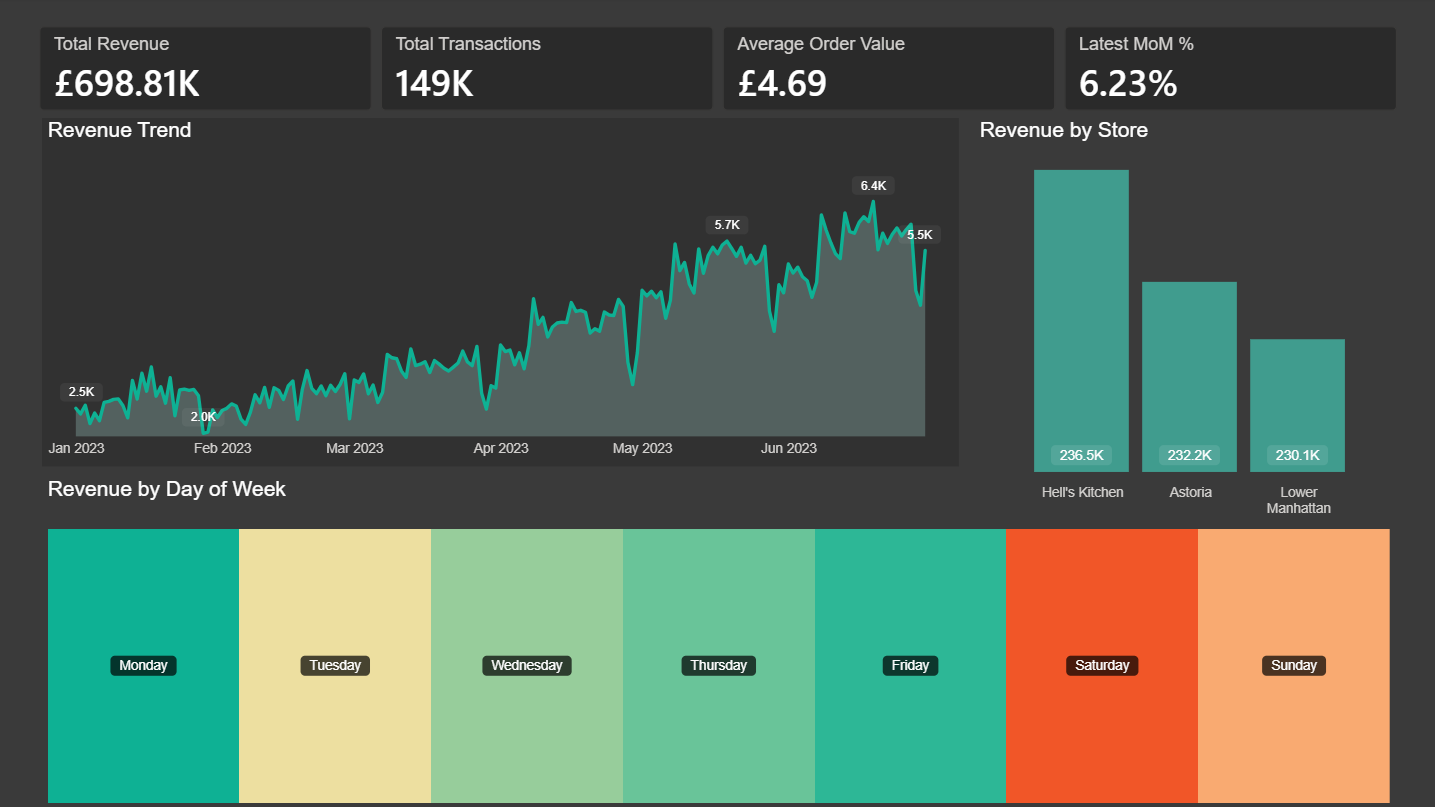

The page's visual inventory and layout, read from the dashboard file:
{"tool":"powerbi","page":{"name":"Page 1 - Overview","canvas":[1280,720],"ordinal":0},"visuals":[{"type":"cardVisual","fields":{"Data":["Fact_Transactions.Total Revenue","Fact_Transactions.Total Transactions","Fact_Transactions.Average Order Value","Fact_Transactions.Latest Month MoM %"]},"box":[24.3,7.8,1238.2,109.9],"z":0},{"type":"lineChart","title":"Revenue Trend","fields":{"Category":["Dim_Date.transaction_date"],"Y":["Sum(Fact_Transactions.Revenue)"]},"box":[43.8,106,813.1,309.3],"z":1000},{"type":"hundredPercentStackedColumnChart","title":"Revenue by Day of Week","fields":{"Category":["Dim_Date.Day Name"],"Y":["Fact_Transactions.Total Revenue"]},"box":[43.8,425,1200.2,294.7],"z":3000},{"type":"columnChart","title":"Revenue by Store","fields":{"Category":["Dim_Store.store_location"],"Y":["Dim_Store.Revenue per Store"]},"box":[869.5,106,374.5,360.9],"z":4000}]}

Visuals, with their boxes in screenshot pixels (x1, y1, x2, y2), scaled from the page's 1280x720 canvas onto the 1435x807 screenshot:
cardVisual - Fact_Transactions.Total Revenue x Fact_Transactions.Total Transactions: pyautogui.locateOnScreen(27, 9, 1415, 132)
"Revenue Trend" lineChart: pyautogui.locateOnScreen(49, 119, 961, 465)
"Revenue by Day of Week" hundredPercentStackedColumnChart: pyautogui.locateOnScreen(49, 476, 1395, 806)
"Revenue by Store" columnChart: pyautogui.locateOnScreen(975, 119, 1395, 523)
